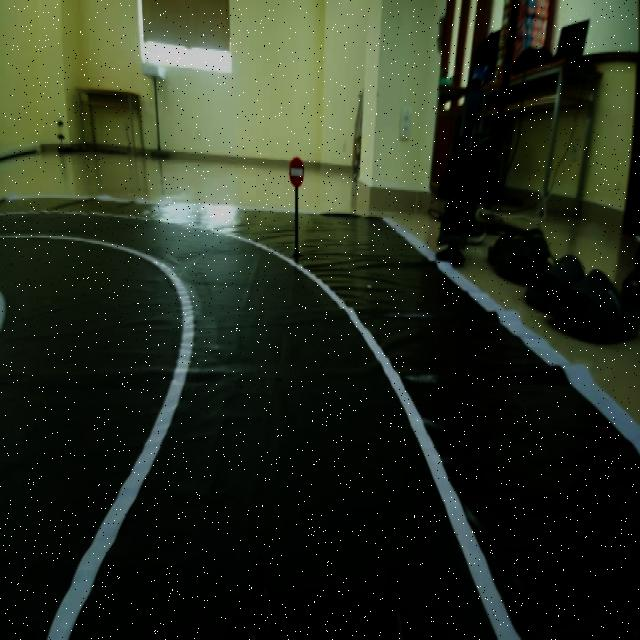no_entry: (282, 148, 314, 196)
